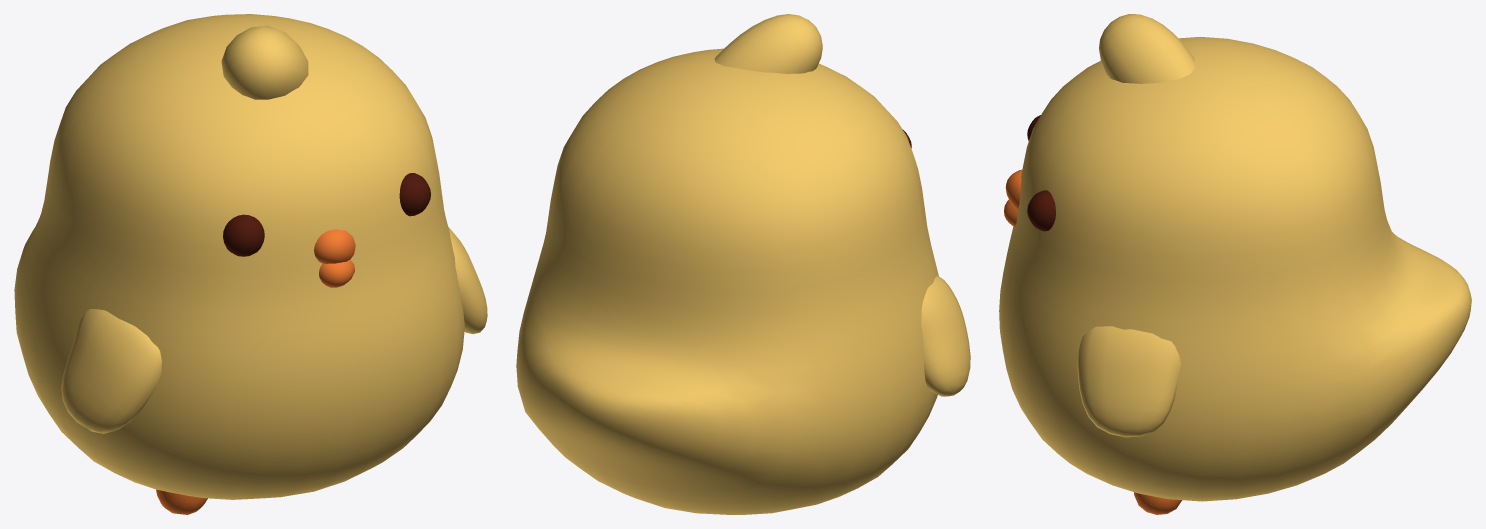
The model's file is elf22.glb.
The picture shows the model from 3 angles, left to right: view 1: azimuth 30°, elevation 25°; view 2: azimuth 150°, elevation 25°; view 3: azimuth 270°, elevation 25°; orthographic projection. The views are drawn at different scales.
Parts seen in each view (by area): view 1: Cube 8, Cube 14, Cube 9, Cube 13, Sphere 4, Cube 10, Sphere 5, Cube 12, Cube 11; view 2: Cube 8, Cube 9, Cube 14; view 3: Cube 8, Cube 13, Cube 9, Sphere 5, Cube 12.
Boxes of the visible parts, <box> form: Cube 8: <box>14,14,464,499</box>; Cube 14: <box>61,309,161,433</box>; Cube 9: <box>221,25,308,99</box>; Cube 13: <box>448,226,487,333</box>; Sphere 4: <box>223,214,264,256</box>; Cube 10: <box>314,229,355,263</box>; Sphere 5: <box>399,173,430,216</box>; Cube 12: <box>156,489,207,514</box>; Cube 11: <box>319,259,354,287</box>; Cube 8: <box>516,48,938,514</box>; Cube 9: <box>714,14,822,73</box>; Cube 14: <box>921,276,970,396</box>; Cube 8: <box>999,37,1471,501</box>; Cube 13: <box>1077,326,1181,437</box>; Cube 9: <box>1099,14,1195,83</box>; Sphere 5: <box>1027,190,1055,231</box>; Cube 12: <box>1134,492,1181,514</box>.
Bounding box in the file's own units: 1.48 × 1.64 × 1.58.
